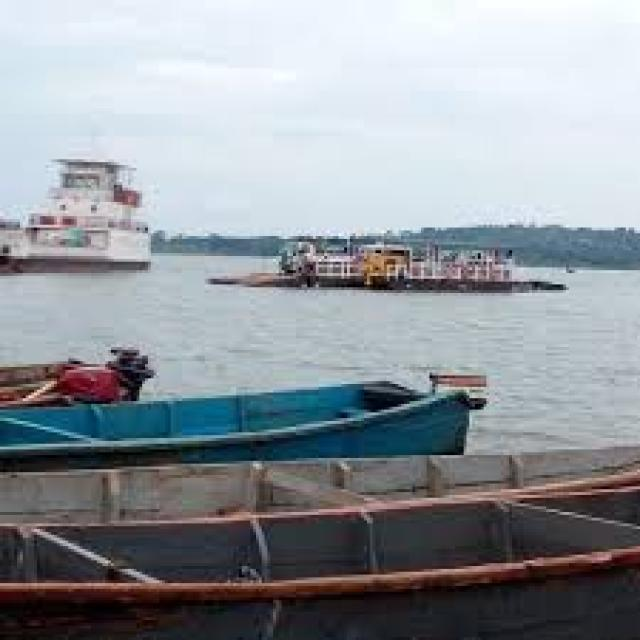fishing boat: (32, 346, 470, 451)
houseboat: (212, 223, 547, 321)
